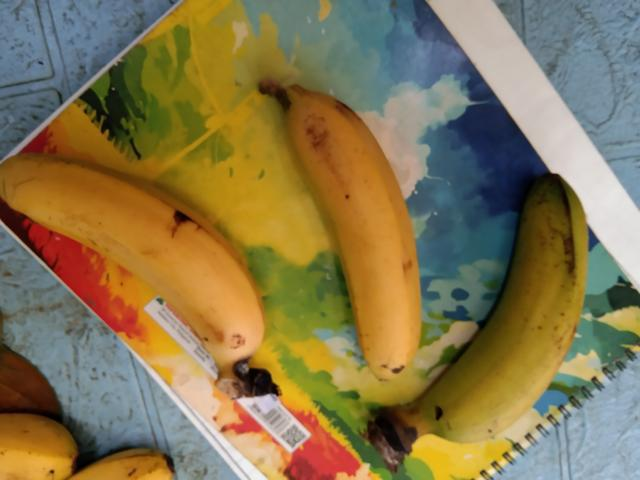freshripe: (12, 141, 267, 368), (274, 76, 438, 397)
ripe: (419, 165, 607, 479)
